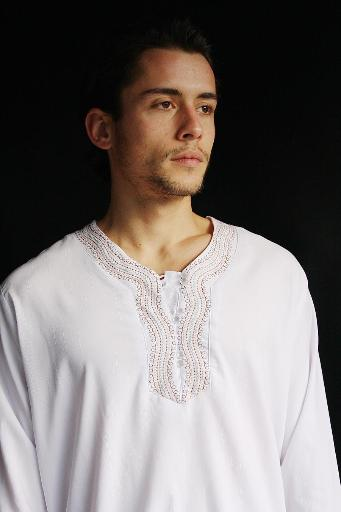left_eye: (198, 104, 216, 119)
left_lip_corner: (196, 155, 205, 167)
right_eye: (148, 100, 177, 114)
right_lip_corner: (169, 155, 179, 166)
